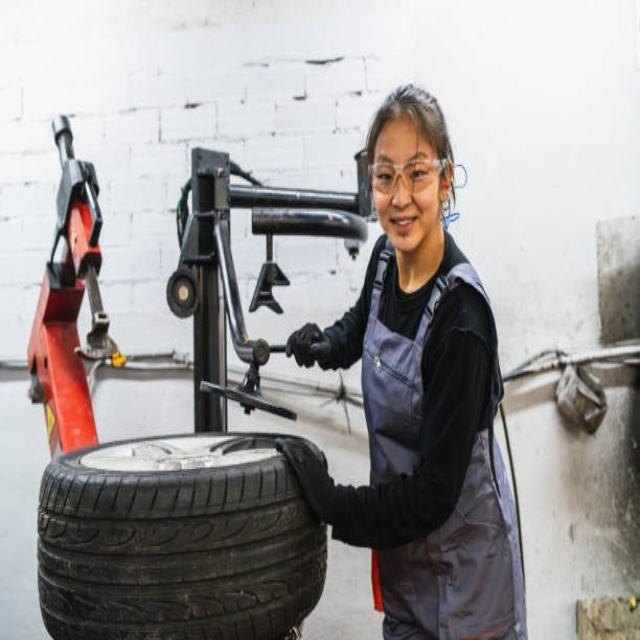Gafas: (367, 156, 446, 196)
Guantes: (275, 435, 339, 527), (286, 322, 328, 369)
Sin_mascara: (385, 205, 425, 245)
